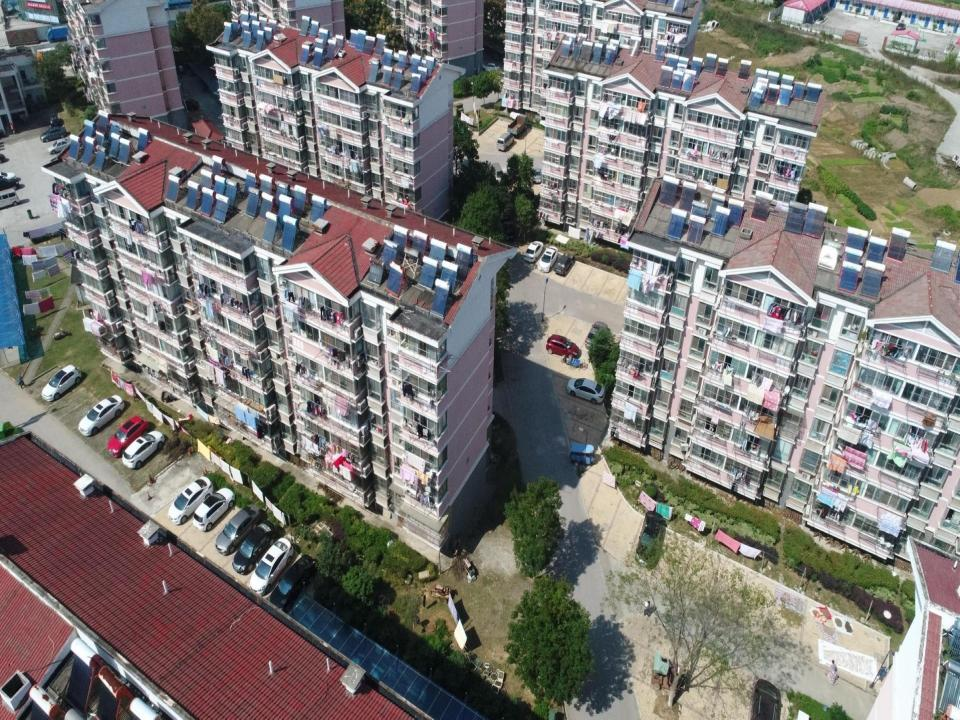car: (249, 538, 296, 598), (232, 521, 285, 574), (266, 557, 314, 612), (215, 504, 262, 555), (168, 476, 213, 526), (192, 482, 236, 533), (78, 395, 128, 437), (634, 504, 664, 569), (107, 416, 150, 458), (124, 430, 164, 470), (40, 364, 82, 402), (565, 377, 606, 405), (547, 332, 579, 357), (584, 317, 607, 351), (538, 245, 558, 273), (552, 252, 574, 277), (523, 240, 543, 266), (39, 126, 69, 143), (48, 137, 71, 154), (1, 178, 19, 190), (182, 98, 199, 110), (483, 63, 500, 74), (46, 113, 61, 125), (531, 168, 542, 184), (0, 172, 18, 181)
truck: (46, 25, 70, 43), (507, 116, 528, 136)
van: (0, 187, 20, 210), (496, 132, 514, 151), (492, 160, 504, 186)
